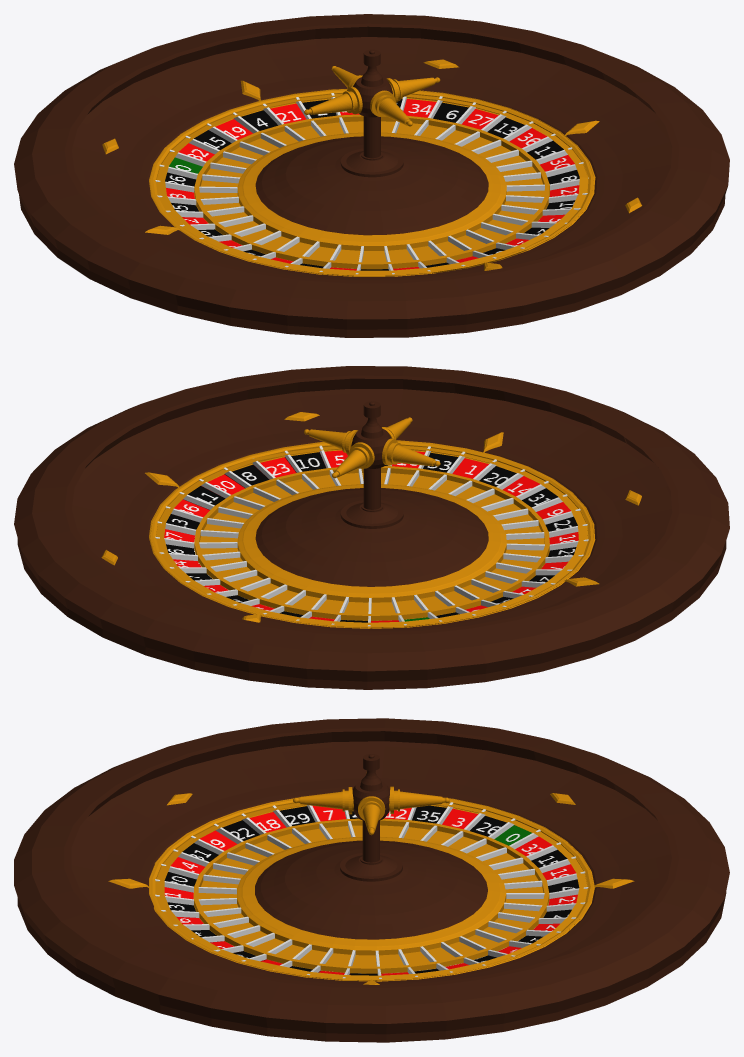
Rendered from Roulette_Table_V4.glb.
3 renders of one model, top to bottom at view 1: azimuth 30°, elevation 25°; view 2: azimuth 150°, elevation 25°; view 3: azimuth 270°, elevation 25°, orthographic.
Parts seen in each view (by area): view 1: OuterCircle, InnerCircle, InnerPillar, Seperator, numbers, Circle.004, Circle.001, Circle.003; view 2: OuterCircle, InnerCircle, InnerPillar, Seperator, numbers, Circle.004, Circle.002, Circle.003; view 3: OuterCircle, InnerCircle, InnerPillar, Seperator, numbers, Circle.001, Circle.002, Circle.003.
Part boxes in pixels (<box>): OuterCircle: <box>14,14,729,337</box>; InnerCircle: <box>149,88,595,276</box>; InnerPillar: <box>255,49,488,235</box>; Seperator: <box>155,93,588,274</box>; numbers: <box>165,98,579,270</box>; Circle.004: <box>304,87,362,114</box>; Circle.001: <box>370,90,412,126</box>; Circle.003: <box>386,77,440,103</box>; OuterCircle: <box>14,366,729,689</box>; InnerCircle: <box>149,440,595,628</box>; InnerPillar: <box>255,401,488,586</box>; Seperator: <box>155,445,588,626</box>; numbers: <box>164,450,578,622</box>; Circle.004: <box>382,438,440,466</box>; Circle.002: <box>332,442,374,478</box>; Circle.003: <box>304,429,357,455</box>; OuterCircle: <box>14,718,729,1042</box>; InnerCircle: <box>149,797,594,981</box>; InnerPillar: <box>255,754,487,939</box>; Seperator: <box>155,802,588,978</box>; numbers: <box>164,805,579,975</box>; Circle.001: <box>293,787,353,814</box>; Circle.002: <box>389,786,449,813</box>; Circle.003: <box>358,796,385,835</box>.
Bounding box in the file's own units: 5.55 × 1.23 × 5.54.
Materials: 3 (1 with a texture image).
